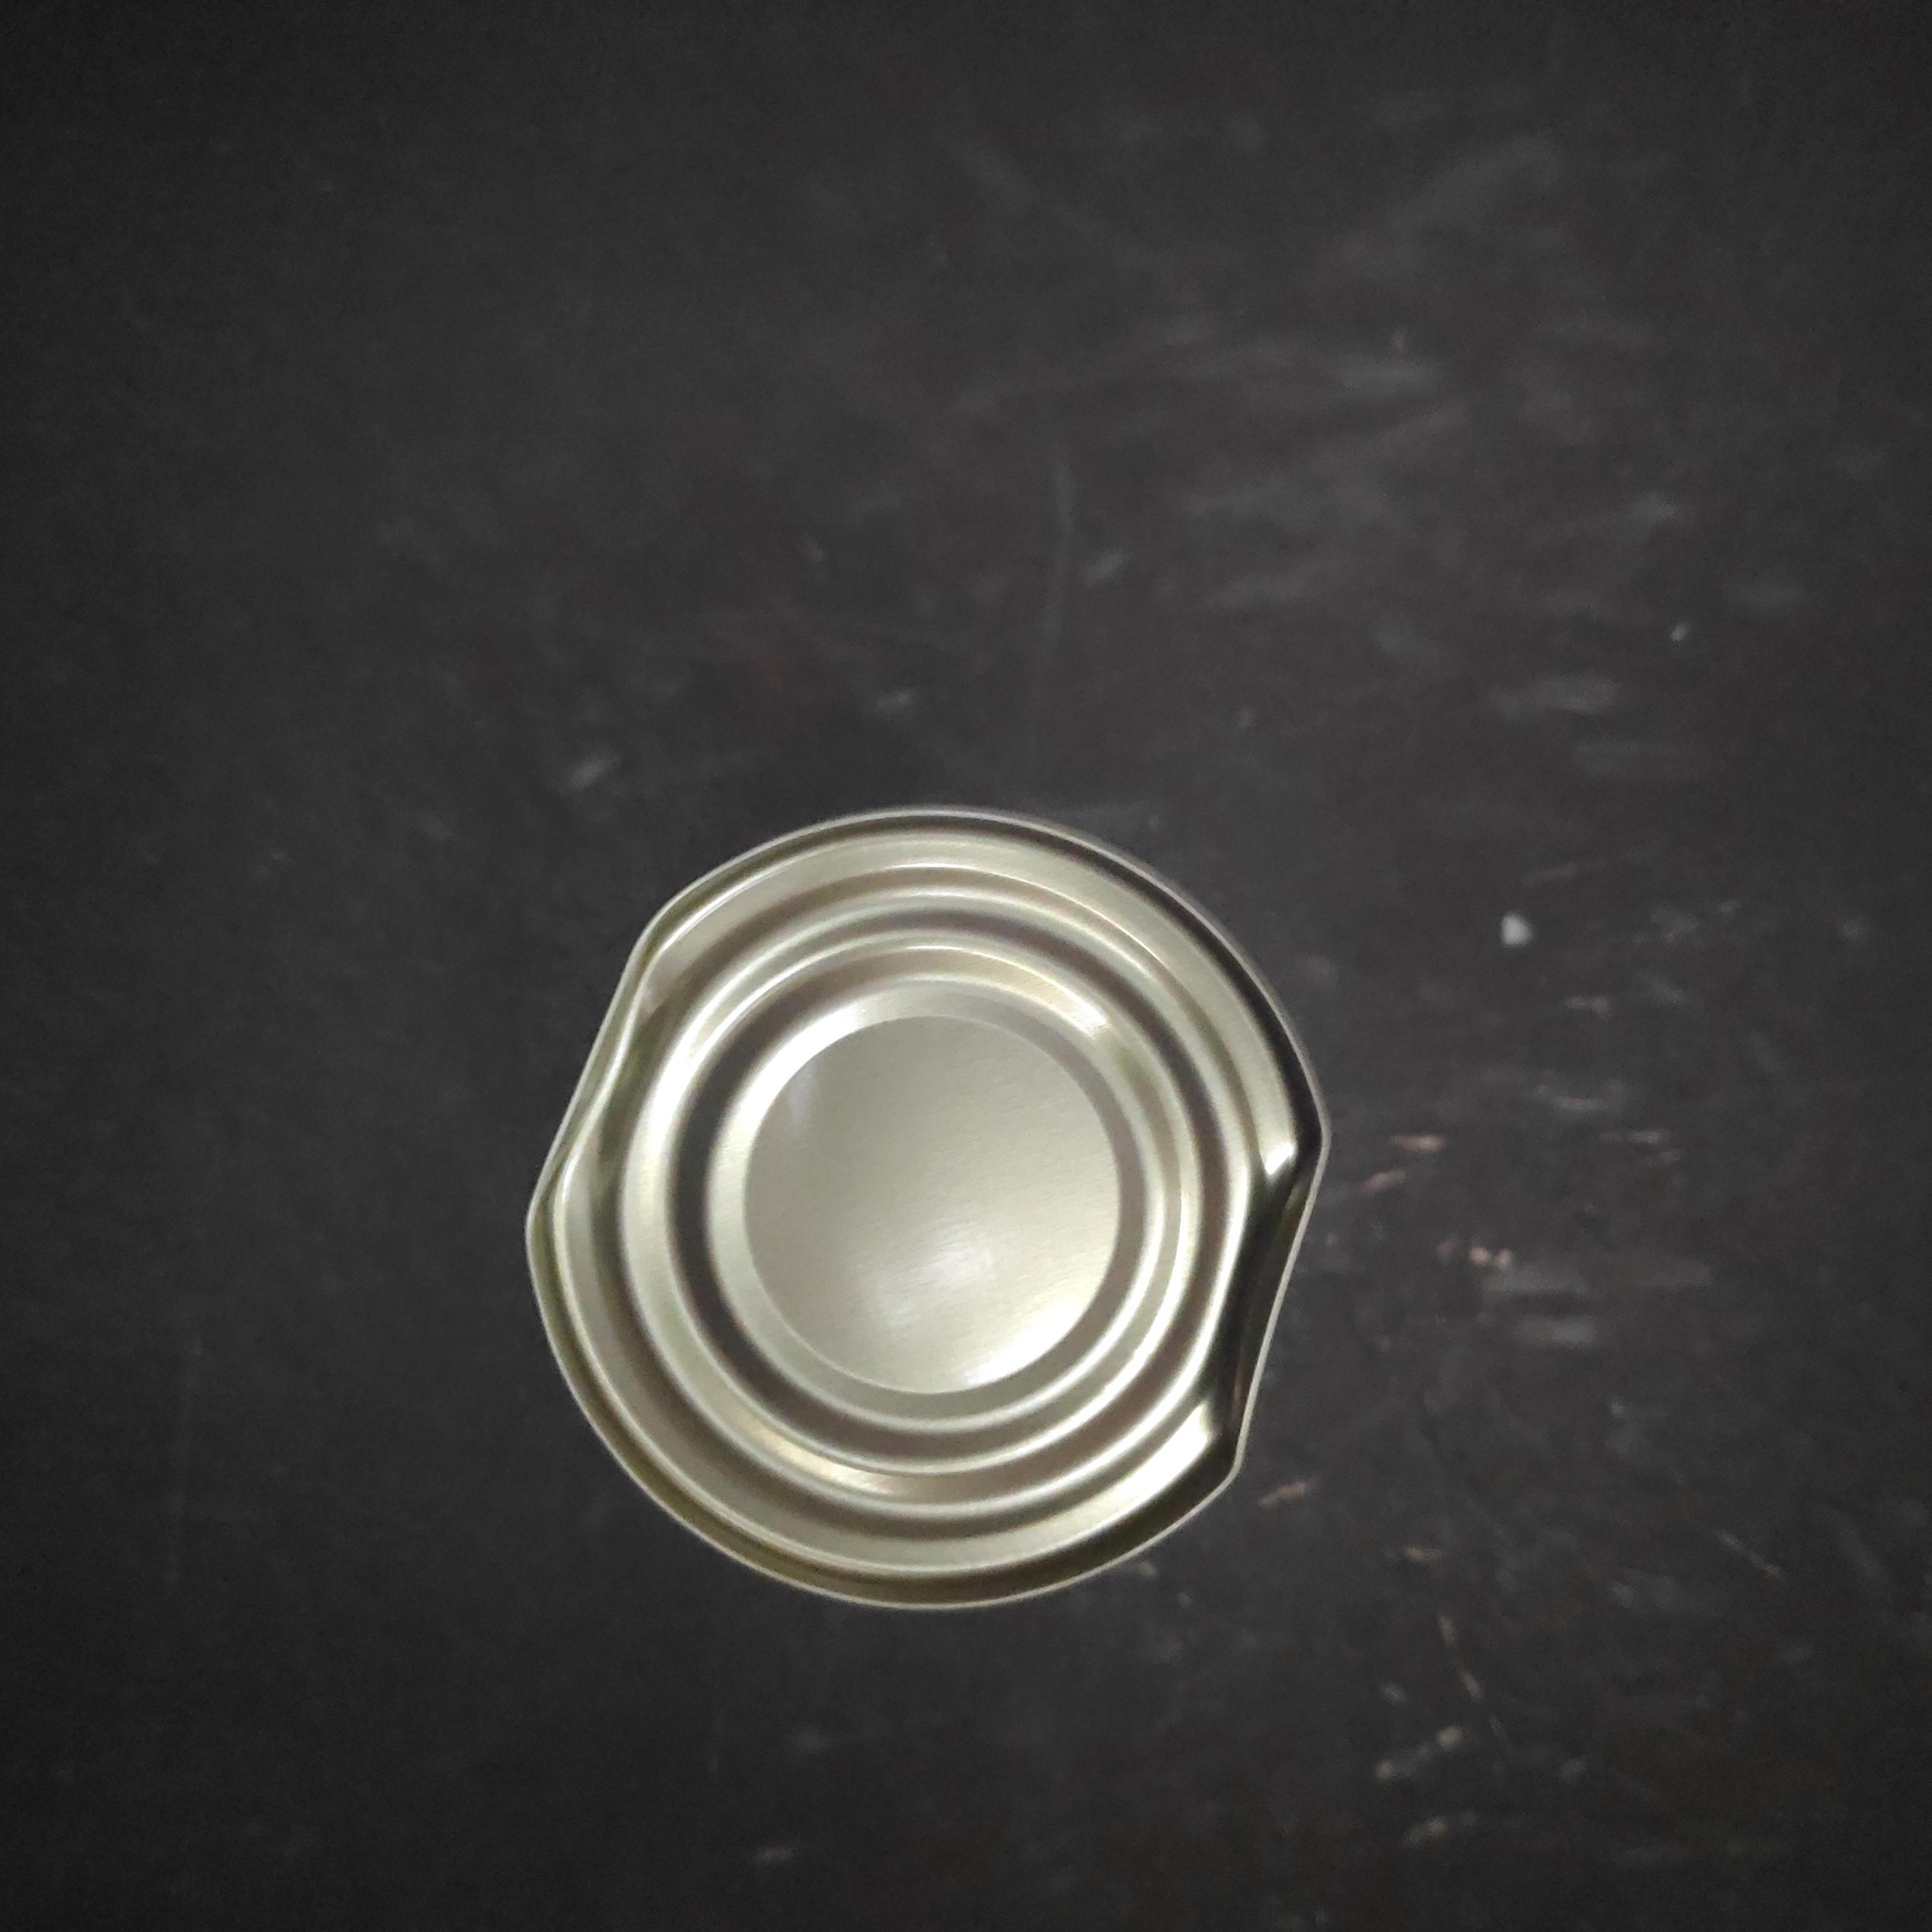Minor Defect: (599, 298, 1426, 1192)
